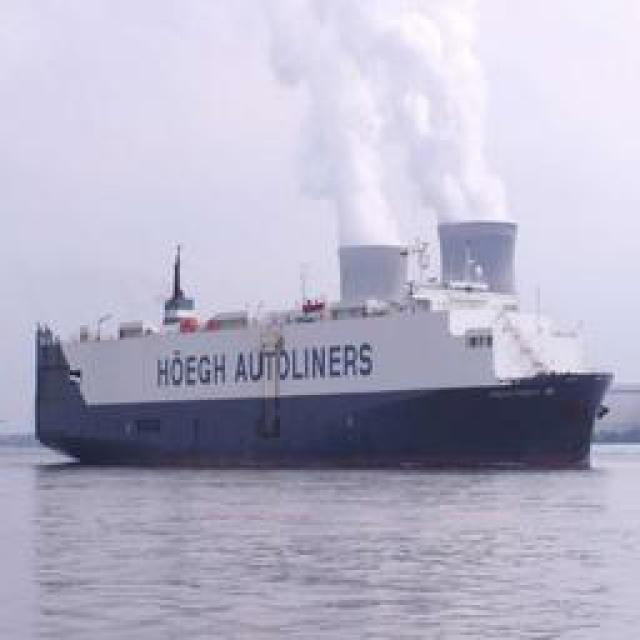CIV_Ship: (28, 224, 618, 472)
